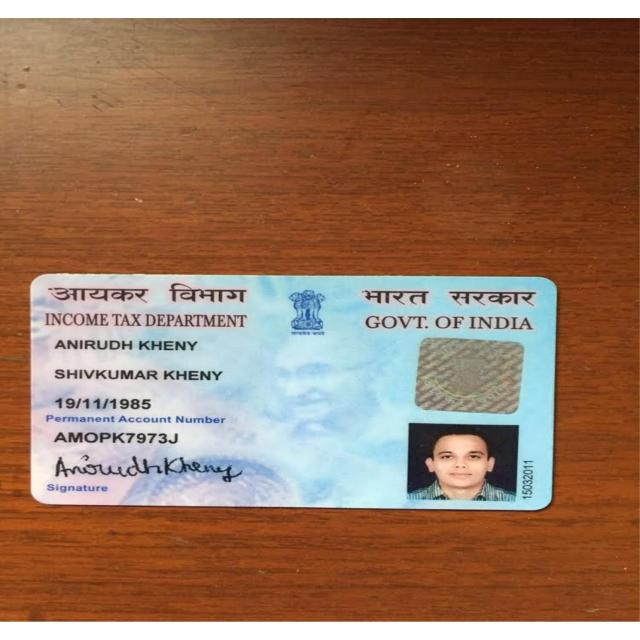pan_card: (35, 276, 551, 508)
